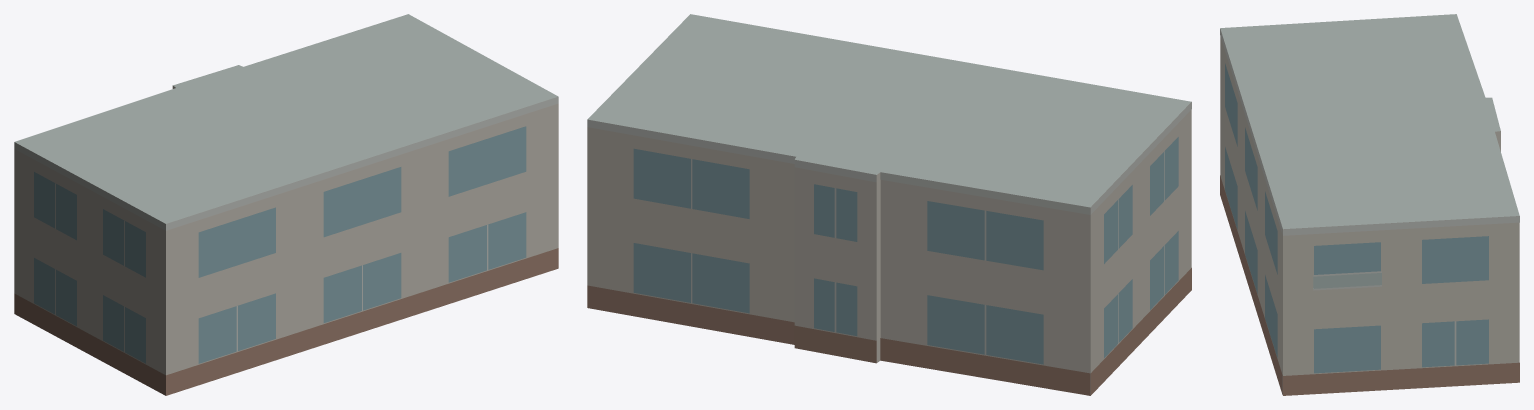
File: survey-upis-33012497.glb
3 views of the same model, side by side, from view 1: azimuth 30°, elevation 25°; view 2: azimuth 150°, elevation 25°; view 3: azimuth 270°, elevation 25° (orthographic). The views are drawn at different scales.
Parts seen in each view (by area): view 1: survey-upis-33012497.tmp; view 2: survey-upis-33012497.tmp; view 3: survey-upis-33012497.tmp.
Boxes of the visible parts, x1,y1,x2,y2 form: survey-upis-33012497.tmp: [14, 14, 558, 395]; survey-upis-33012497.tmp: [587, 14, 1191, 395]; survey-upis-33012497.tmp: [1220, 14, 1519, 395].
Size of the model in its own units: 16.9 by 6.1 by 9.95.
